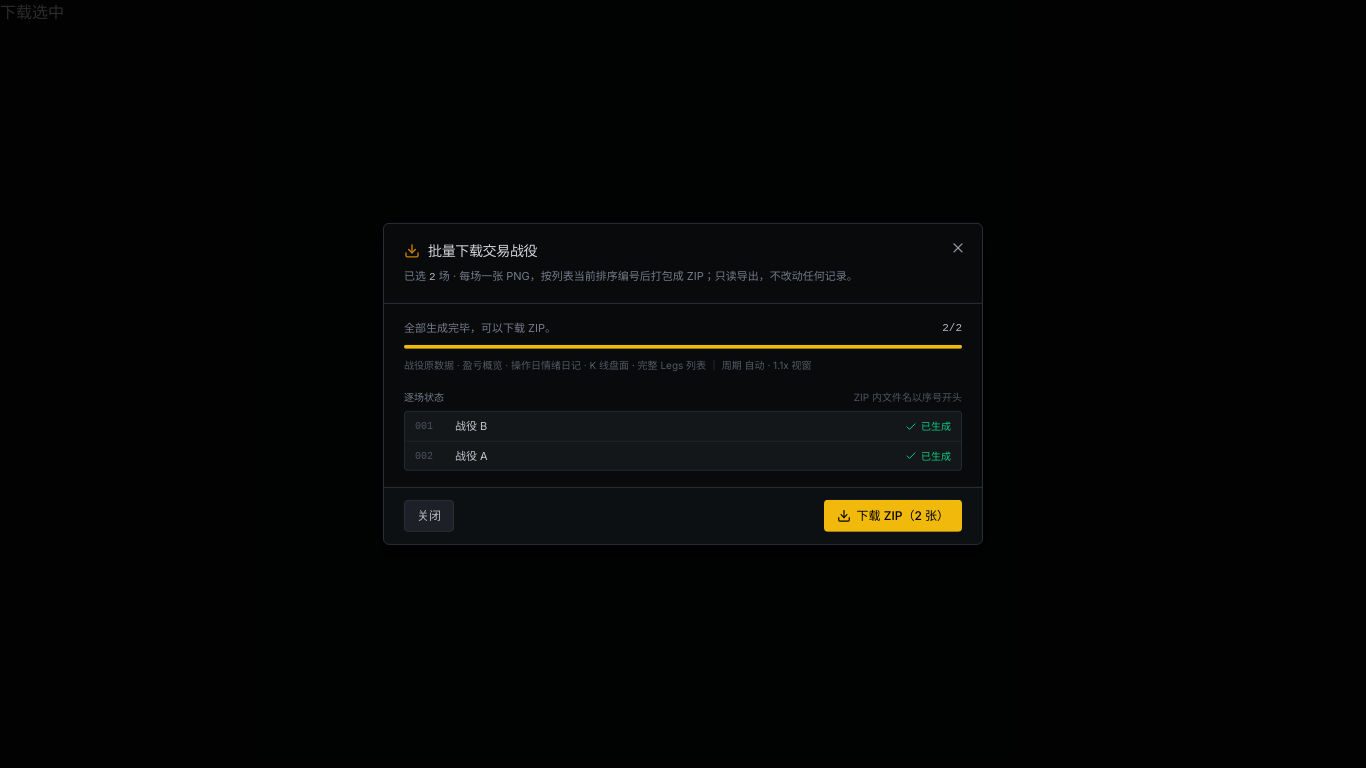
批量下载弹窗关闭后的焦点 › 页脚「关闭」与「丢弃并关闭」同样把焦点还回去
Earlier steps of the test are not shown.
Later steps or results of the test are not shown.
Click the button "下载 ZIP（2 张）" at coordinates (893, 516), box [824,500,962,532]
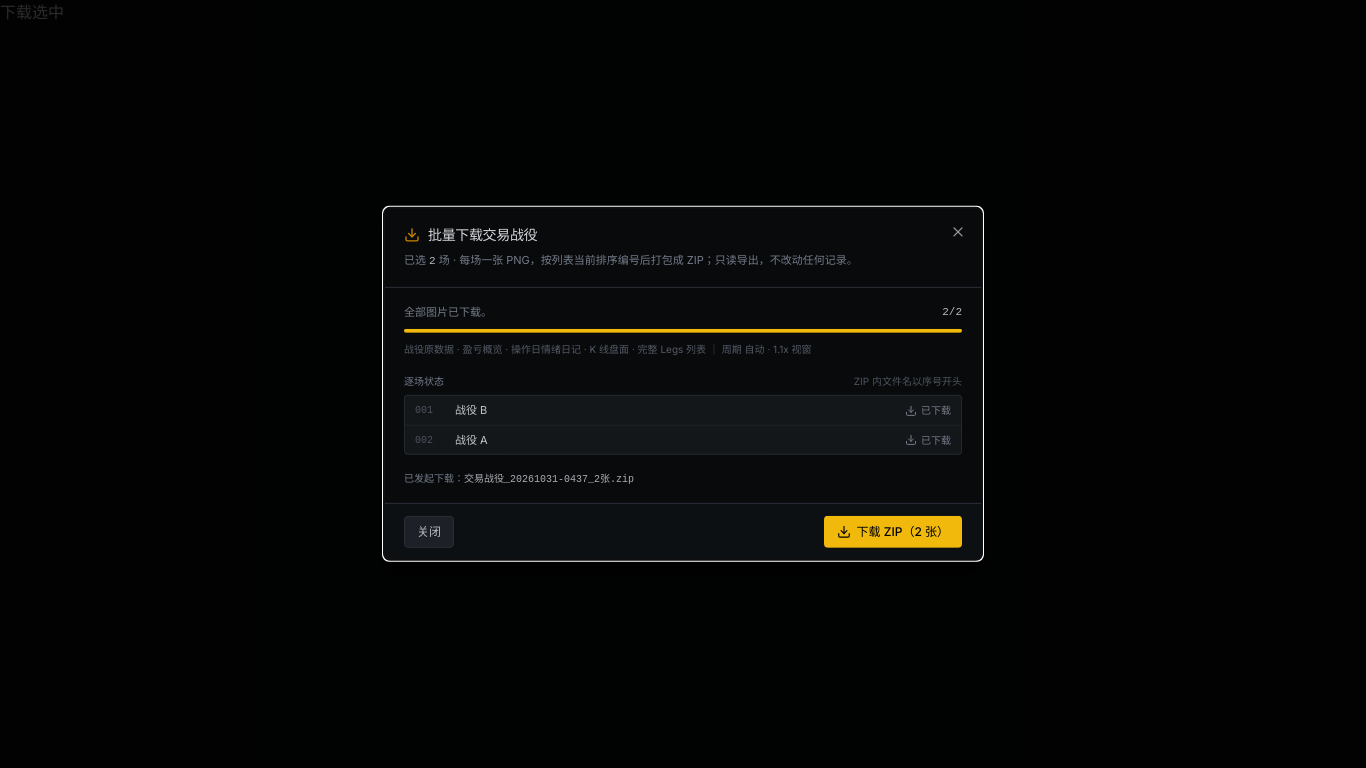
Click the button with test id "campaign-batch-close" at coordinates (429, 532), box [404,516,454,548]
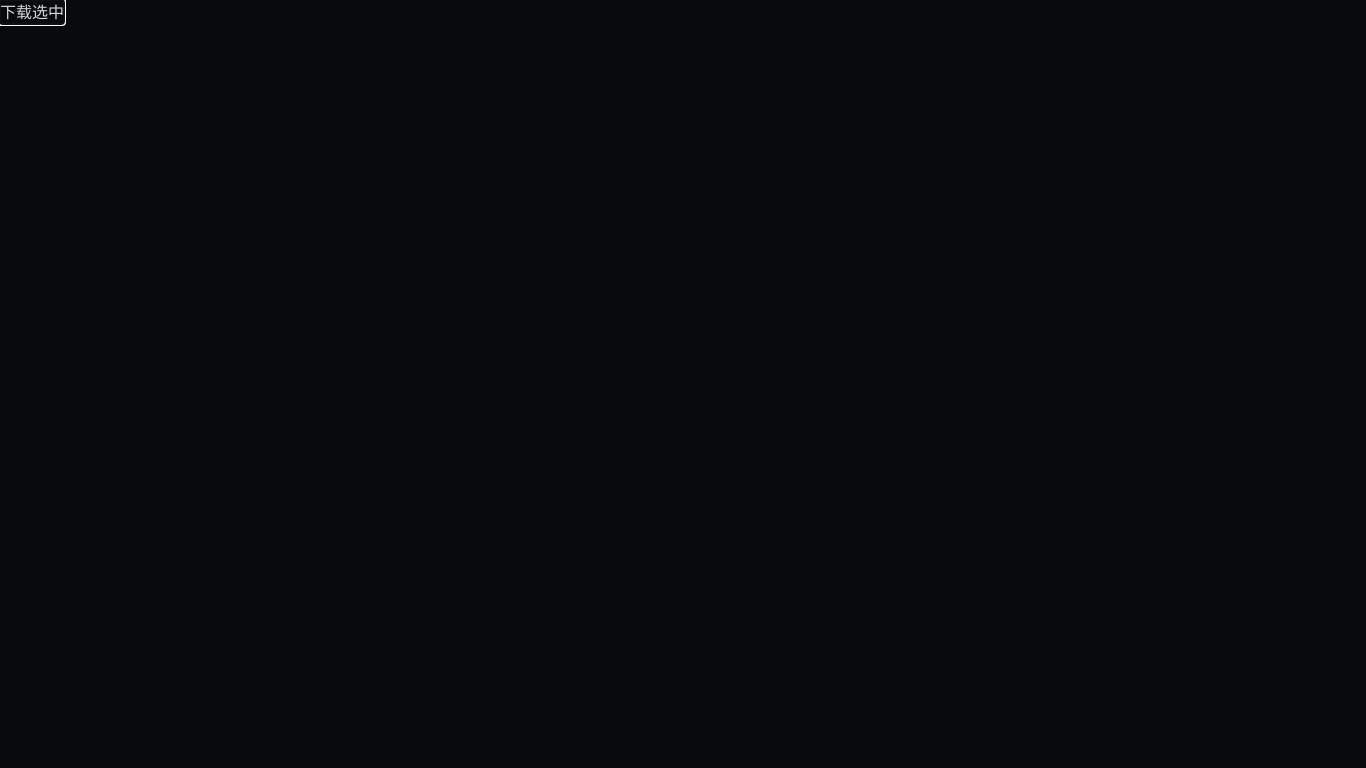
Result: the dialog with test id "campaign-batch-export-dialog" is gone
